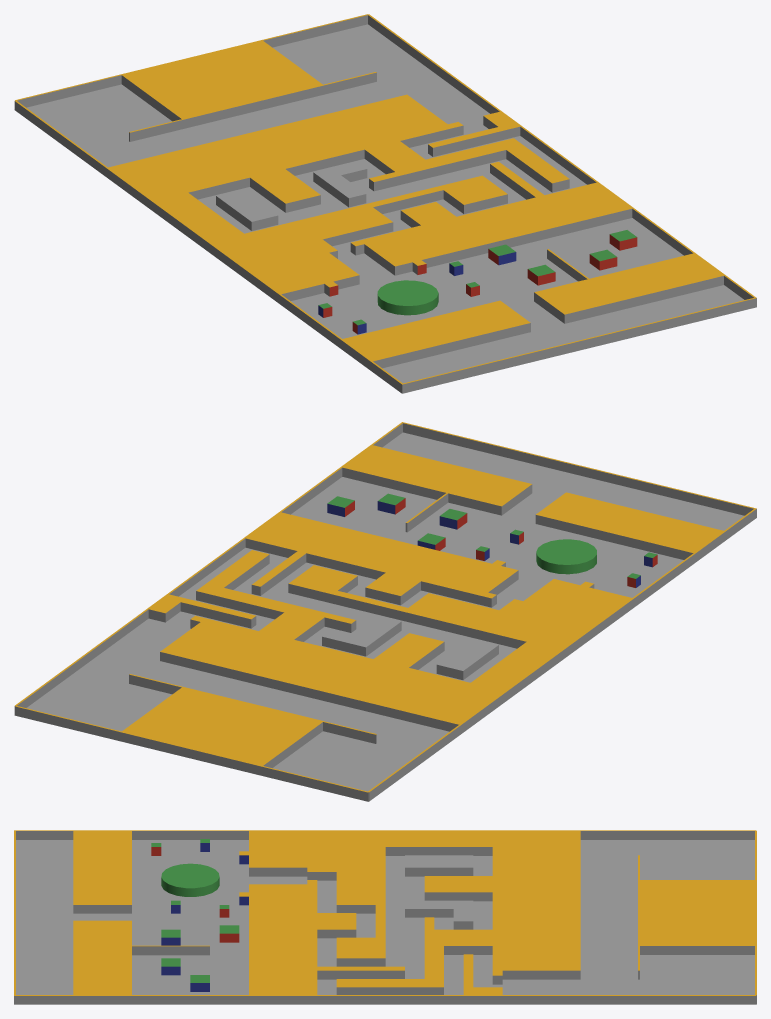
Rendered from arena.dae.
3 views of the same model, one above another, from view 1: azimuth 30°, elevation 25°; view 2: azimuth 150°, elevation 25°; view 3: azimuth 270°, elevation 25° (orthographic). The views are drawn at different scales.
Parts seen in each view (by area): view 1: Body2_Steel_-_Satin, Body2_Powder_Coat_(Yellow), Body2_Powder_Coat_(Green), Body2_Powder_Coat_(Red); view 2: Body2_Steel_-_Satin, Body2_Powder_Coat_(Yellow), Body2_Powder_Coat_(Green), Body2_Powder_Coat_(Blue), Body2_Powder_Coat_(Red); view 3: Body2_Steel_-_Satin, Body2_Powder_Coat_(Yellow), Body2_Powder_Coat_(Green), Body2_Powder_Coat_(Blue), Body2_Powder_Coat_(Red).
Boxes of the visible parts, x1,y1,x2,y2 form: Body2_Steel_-_Satin: (14,15,756,393); Body2_Powder_Coat_(Yellow): (15,14,756,384); Body2_Powder_Coat_(Green): (318,230,636,325); Body2_Powder_Coat_(Red): (323,234,637,334); Body2_Steel_-_Satin: (14,423,756,801); Body2_Powder_Coat_(Yellow): (15,422,756,792); Body2_Powder_Coat_(Green): (327,493,657,578); Body2_Powder_Coat_(Blue): (327,501,652,587); Body2_Powder_Coat_(Red): (345,498,657,587); Body2_Steel_-_Satin: (14,831,756,1004); Body2_Powder_Coat_(Yellow): (14,830,756,995); Body2_Powder_Coat_(Green): (151,839,239,982); Body2_Powder_Coat_(Blue): (161,843,248,991); Body2_Powder_Coat_(Red): (151,847,239,942).
Size of the model in its own units: 20.1 by 38.1 by 0.5.
